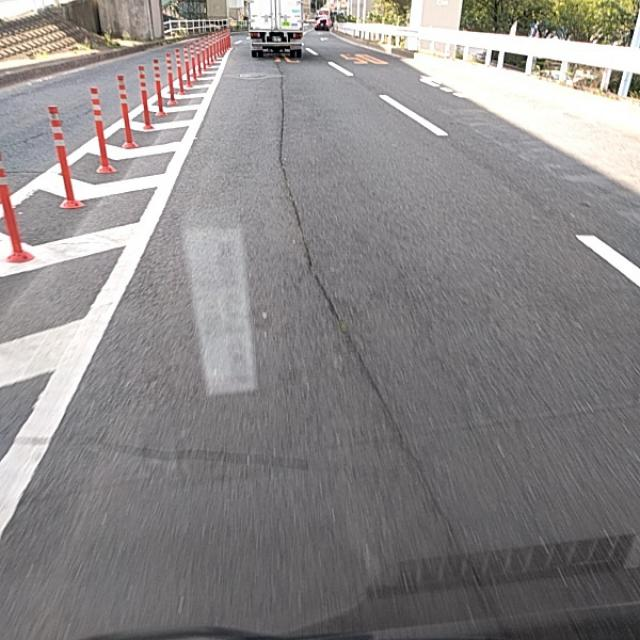pothole: (266, 230, 344, 321)
